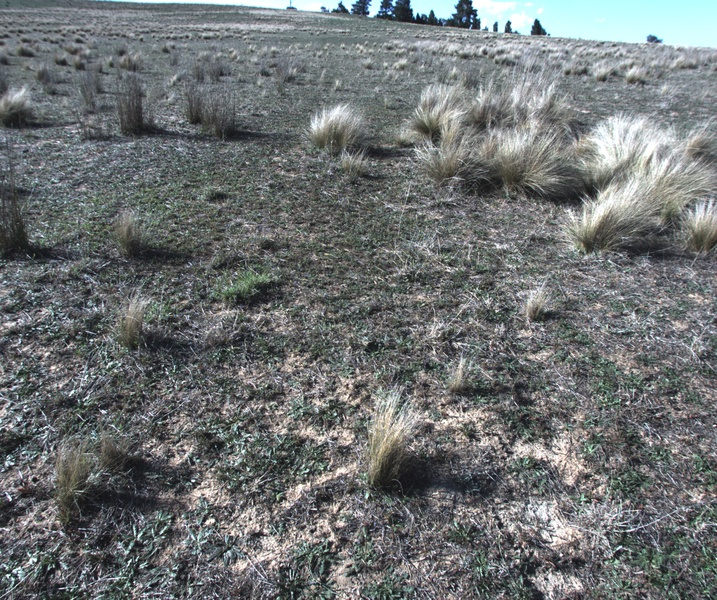st: (356, 388, 433, 505), (588, 125, 688, 208), (565, 183, 637, 253), (490, 130, 563, 194), (52, 444, 93, 522), (419, 142, 472, 191), (513, 89, 562, 138), (307, 104, 360, 146), (684, 205, 717, 268), (108, 301, 152, 347), (412, 95, 449, 144), (528, 283, 559, 323), (481, 84, 510, 124), (436, 114, 468, 150), (120, 207, 143, 251), (687, 128, 713, 166), (1, 88, 29, 121), (493, 52, 515, 70), (624, 66, 645, 83), (590, 69, 607, 85), (15, 43, 34, 57), (54, 51, 65, 69)
